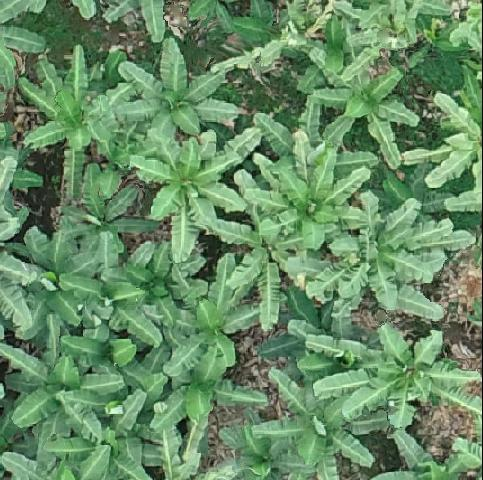Banana-plant: (313, 332, 477, 422), (320, 198, 455, 298), (144, 345, 269, 445), (263, 371, 379, 475), (134, 139, 237, 253), (253, 149, 362, 255), (2, 333, 119, 431), (118, 38, 233, 135), (320, 63, 419, 169), (154, 263, 257, 364), (22, 47, 119, 150), (67, 231, 155, 342), (45, 393, 149, 480), (4, 231, 87, 326), (60, 160, 155, 243)
